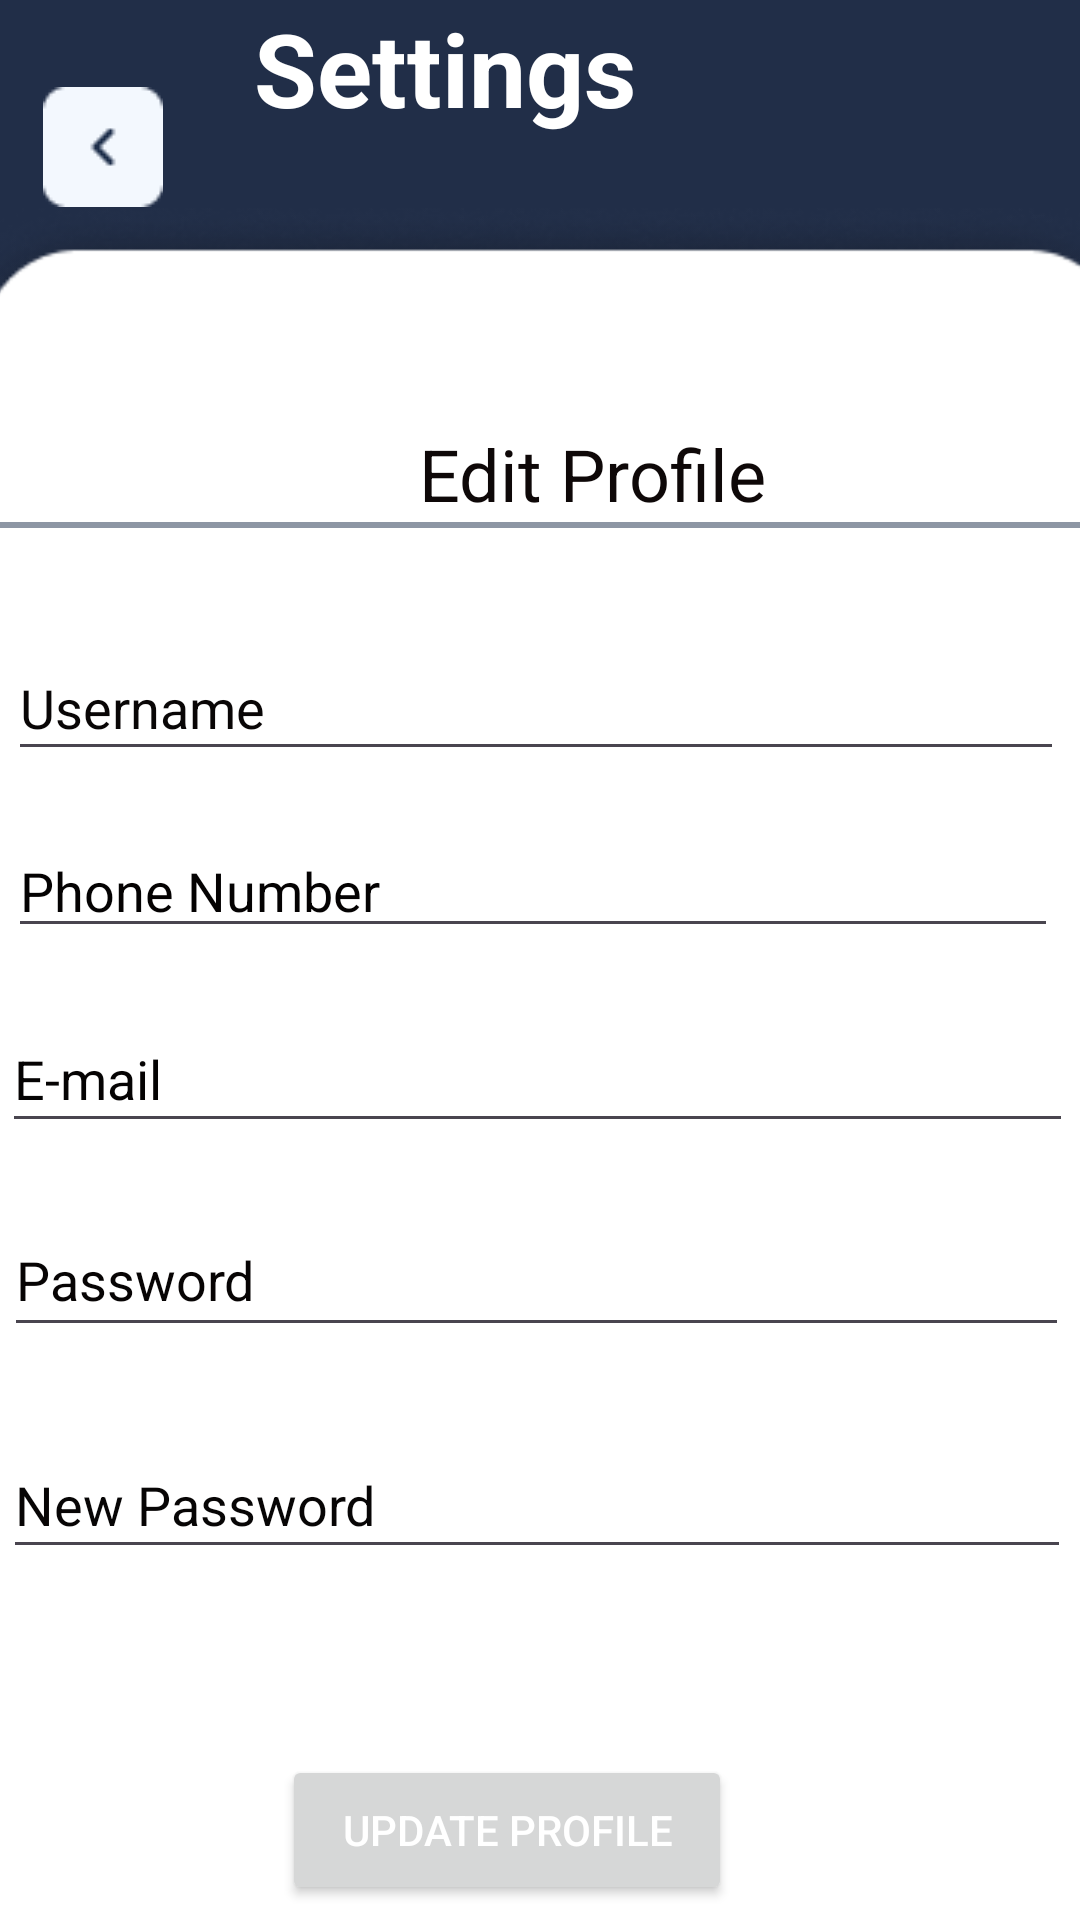

Screen size 1080×1920. Icon name, then its box in pixels as [x1=x1, y1=y1, x2=x2, y2=y2]:
Back Button: [x1=43, y1=87, x2=163, y2=207]
